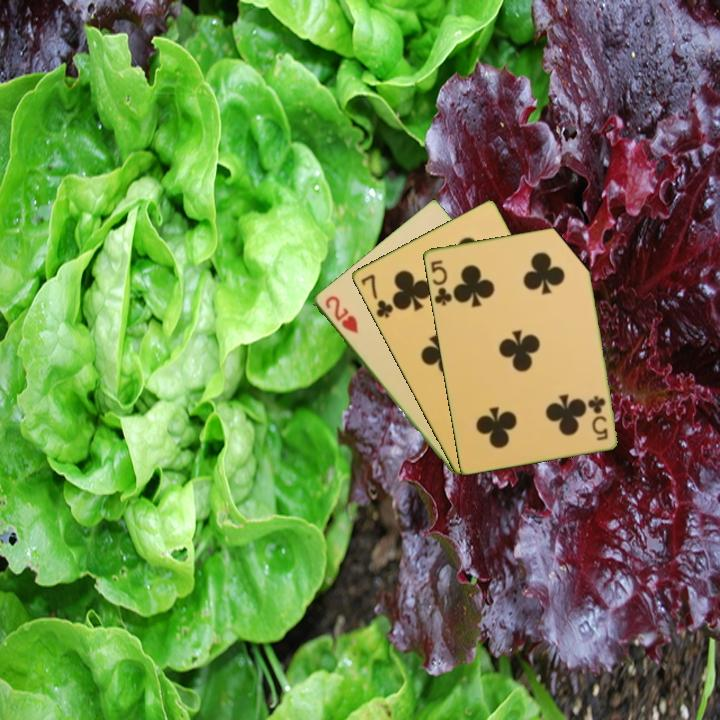2h: (321, 292, 361, 337)
5c: (427, 256, 457, 308), (585, 392, 610, 443)
7c: (357, 270, 396, 321)
